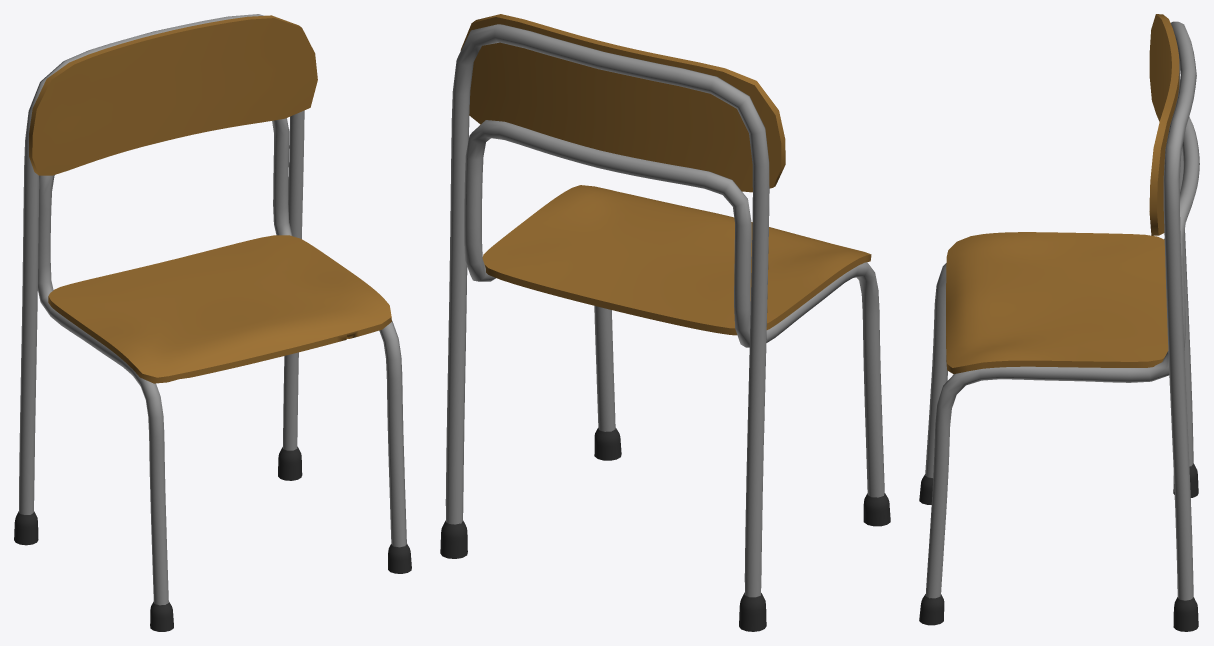
File: chair_light.glb
3 renders of one model, left to right at view 1: azimuth 30°, elevation 25°; view 2: azimuth 150°, elevation 25°; view 3: azimuth 270°, elevation 25°, orthographic. The views are drawn at different scales.
Visible parts, largest first — view 1: オブジェクト_150; view 2: オブジェクト_150; view 3: オブジェクト_150.
Boxes of the visible parts, box(x1,y1,x2,y2) form: オブジェクト_150: box(14, 14, 411, 631); オブジェクト_150: box(440, 14, 890, 631); オブジェクト_150: box(919, 14, 1199, 631).
Bounding box in the file's own units: 0.4889 × 0.78 × 0.4016.
